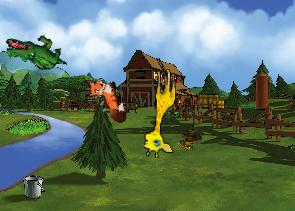crocodile: (4, 31, 67, 74)
fox: (80, 70, 129, 130)
giraffe: (142, 67, 176, 158)
